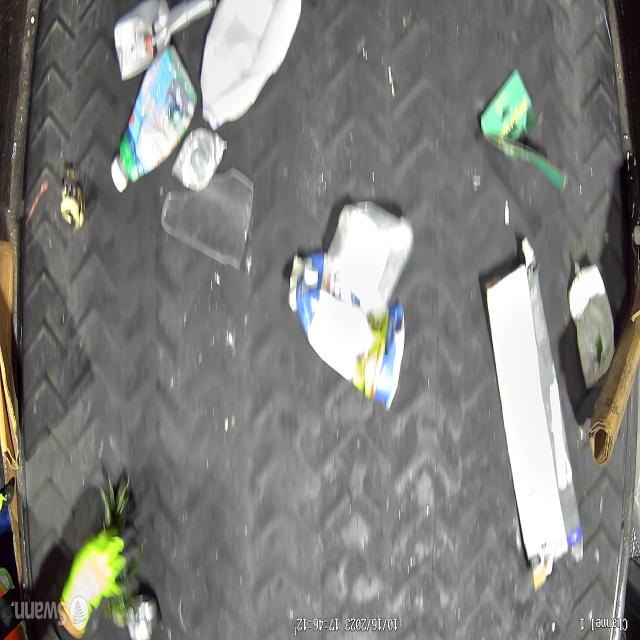can: (170, 128, 228, 192)
milk_jug: (200, 0, 302, 132)
non_white_jug: (288, 251, 405, 412)
plastic_bottle: (111, 44, 198, 193)
